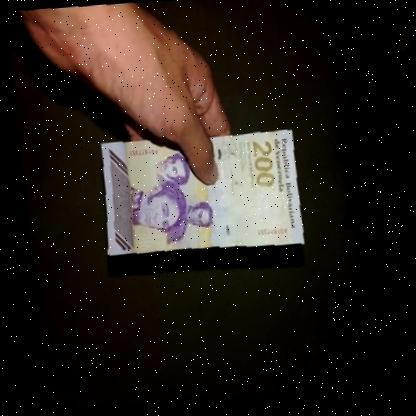two_hundred-front-vef: (87, 125, 306, 265)
